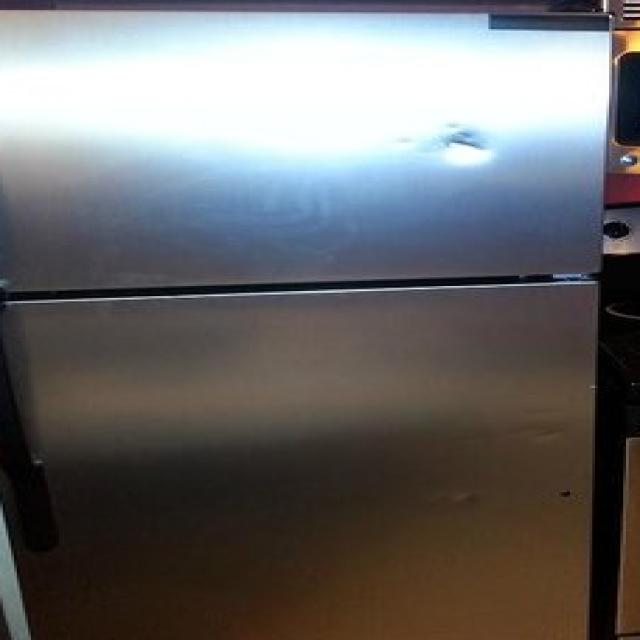dents: (415, 118, 507, 180)
